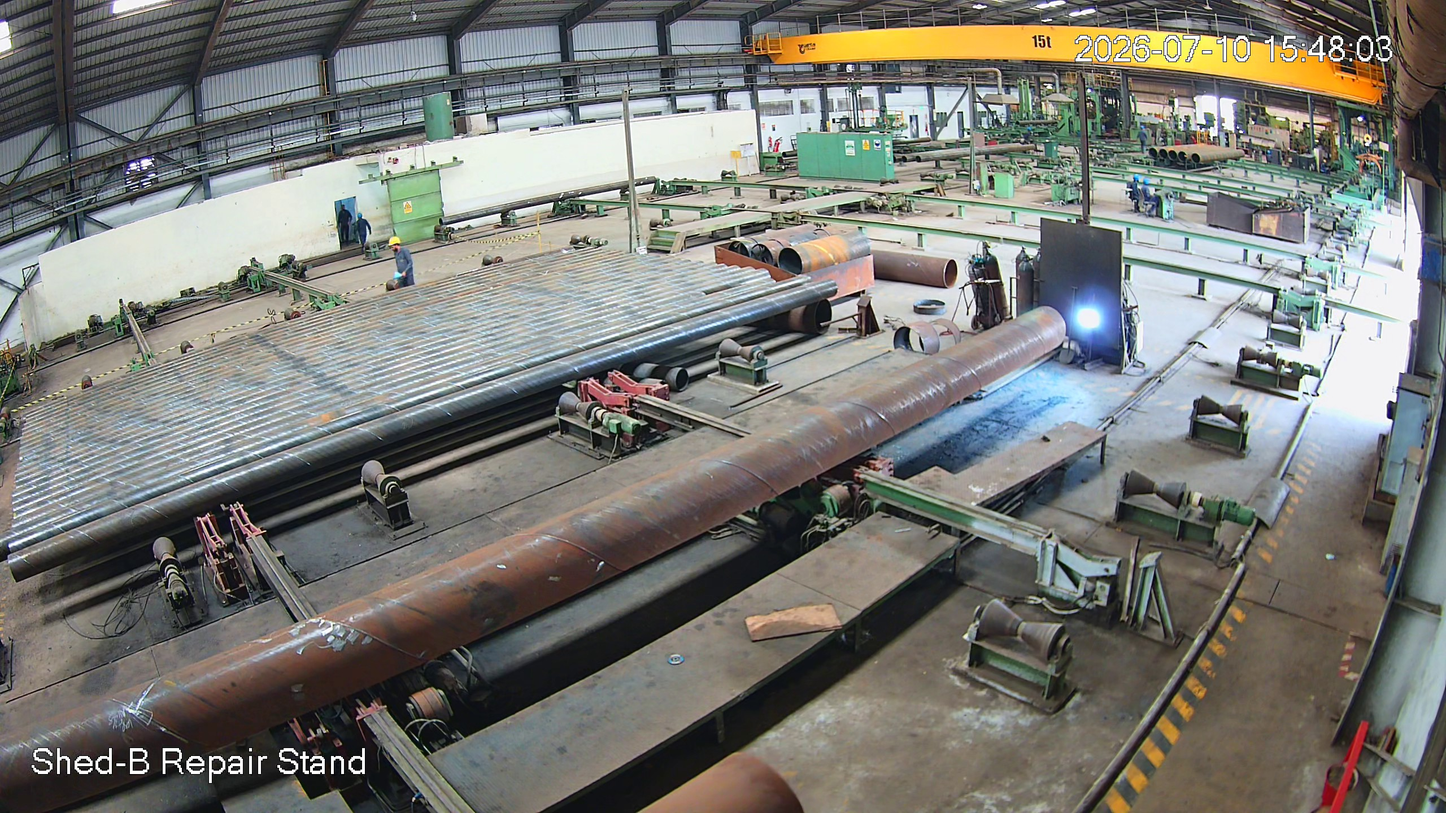Helmet: (386, 233, 407, 259)
Person: (384, 235, 427, 293)
